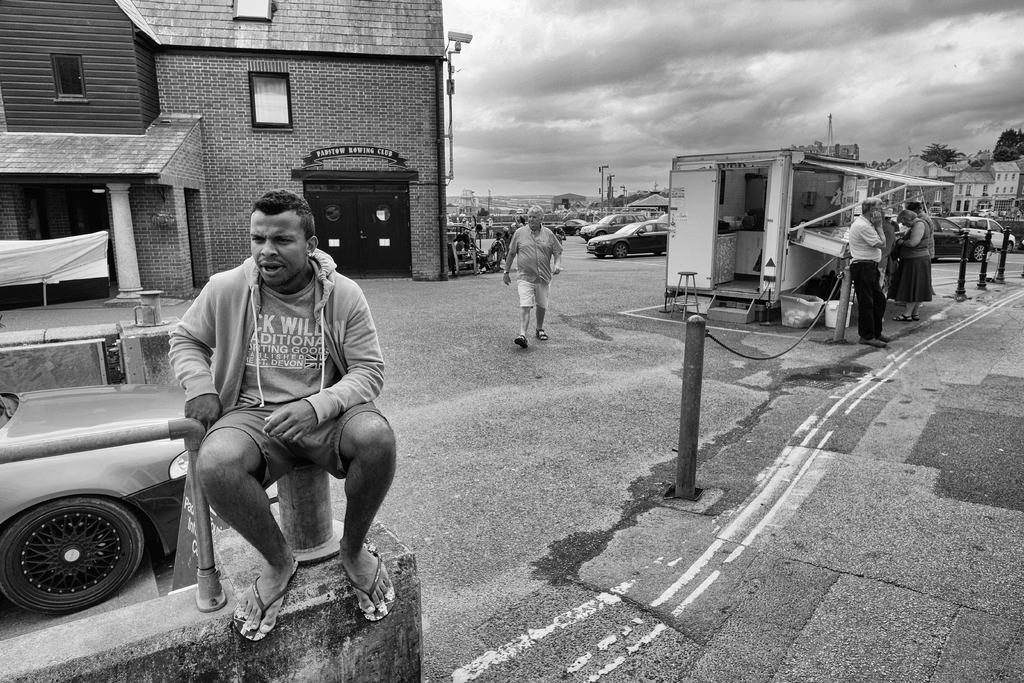Footwear: (322, 552, 390, 639), (230, 558, 298, 641), (860, 335, 884, 348), (511, 336, 526, 350), (895, 311, 911, 320), (539, 333, 545, 340)
